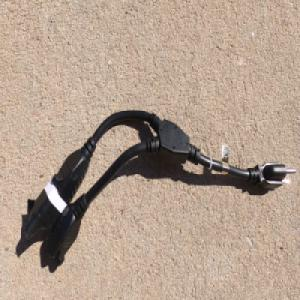Wire: (23, 108, 297, 268)
